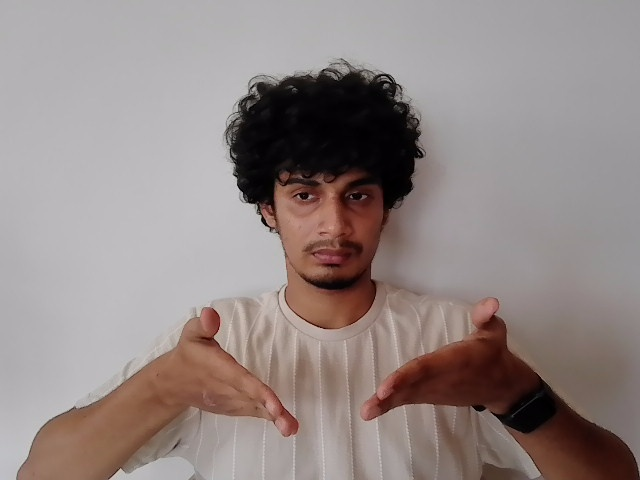here: (168, 299, 516, 433)
